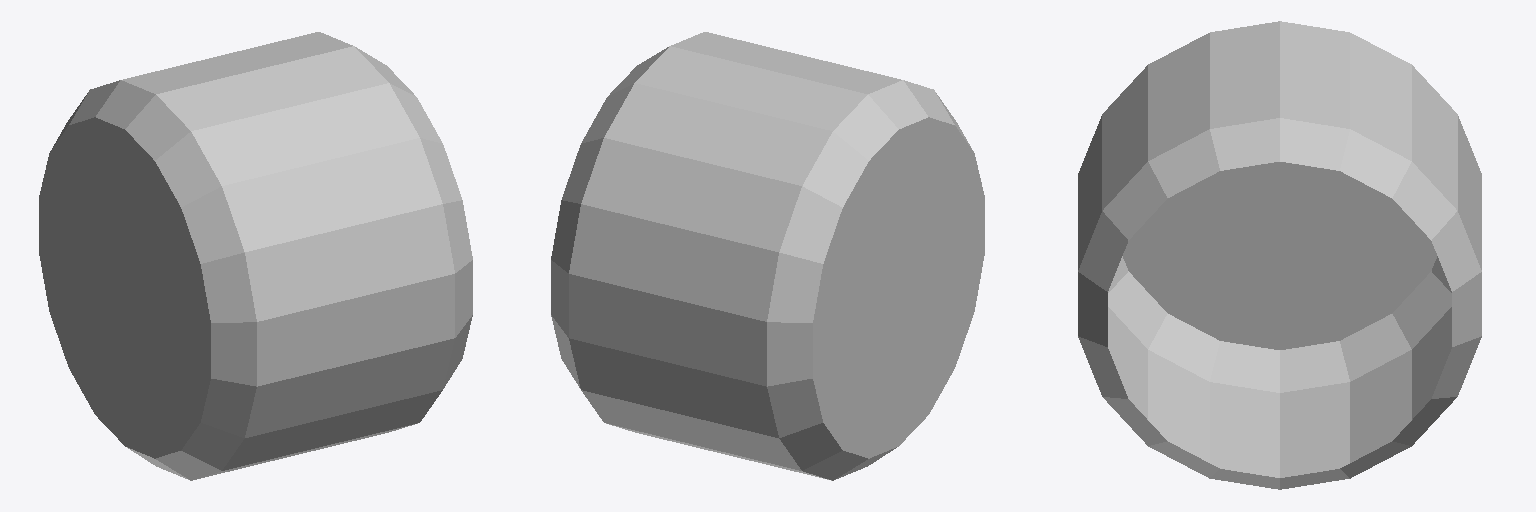
The model's file is Tire front right unwrapped.obj.
3 views of the same model, side by side, from view 1: azimuth 30°, elevation 25°; view 2: azimuth 150°, elevation 25°; view 3: azimuth 270°, elevation 25° (orthographic).
Parts seen in each view (by area): view 1: CarWorldfullTireFrontRight; view 2: CarWorldfullTireFrontRight; view 3: CarWorldfullTireFrontRight.
Boxes of the visible parts, x1,y1,x2,y2 form: CarWorldfullTireFrontRight: [39, 32, 472, 480]; CarWorldfullTireFrontRight: [551, 32, 984, 480]; CarWorldfullTireFrontRight: [1078, 21, 1481, 489].
Bounding box in the file's own units: 25.27 × 34.28 × 33.76.